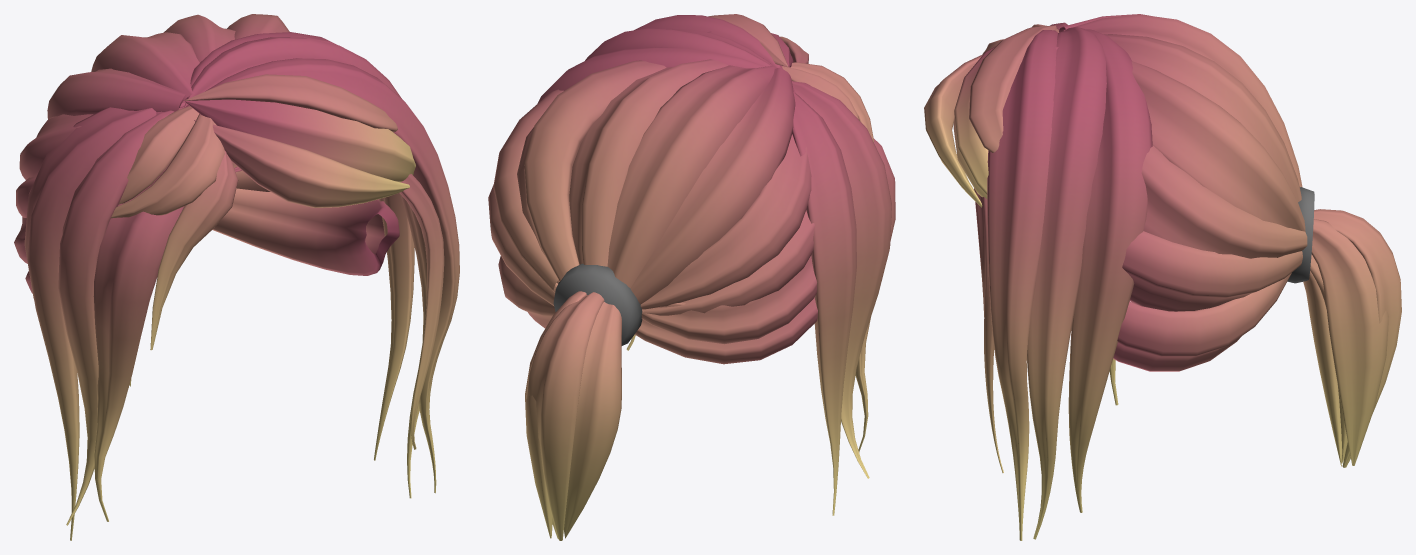
Rendered from haira1.fbx.
3 renders of one model, left to right at view 1: azimuth 30°, elevation 25°; view 2: azimuth 150°, elevation 25°; view 3: azimuth 270°, elevation 25°, orthographic. The views are drawn at different scales.
Visible parts, largest first — view 1: NurbsPath.002; view 2: NurbsPath.002; view 3: NurbsPath.002.
Part boxes in pixels (x1,y1,x2,y2): NurbsPath.002: [14, 14, 459, 540]; NurbsPath.002: [488, 14, 895, 540]; NurbsPath.002: [924, 14, 1401, 540].
Bounding box in the file's own units: 348 × 294 × 355.
